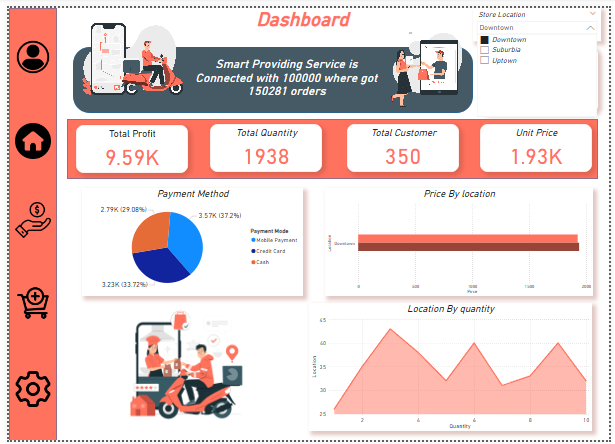

Layout of this report page (visuals, bound fields, positions):
{"tool":"powerbi","page":{"name":"Page 2","canvas":[1500,1080],"ordinal":1},"visuals":[{"type":"textbox","title":"Dashboard","box":[455,0,557.5,70],"z":0},{"type":"shape","box":[0,0,120,1140],"z":1000},{"type":"image","box":[10,67.5,100,110],"z":2000},{"type":"shape","box":[160,97.5,1000,165],"z":3000},{"type":"textbox","title":"Smart Providing Service is Connected with 100000 where got 150281 orders","box":[440,122.5,507.5,115],"z":4000},{"type":"image","box":[10,277.5,100,110],"z":5000},{"type":"image","box":[10,682.5,100,110],"z":6000},{"type":"image","box":[130,7.5,337.5,235],"z":7000},{"type":"shape","box":[865,200,140,40],"z":8000},{"type":"image","box":[10,897.5,100,110],"z":9000},{"type":"image","box":[10,475,100,110],"z":10000},{"type":"slicer","title":"Store Location","fields":{"Values":["data.store_location"]},"box":[1160,0,320,82.5],"z":11000},{"type":"clusteredBarChart","title":"Price By location","fields":{"Category":["data.store_location"],"Y":["Sum(data.unit_price)","Sum(data.quantity)"]},"box":[790,450,670,270],"z":12000},{"type":"pieChart","title":"Payment Method","fields":{"Category":["data.payment_method"],"Y":["Sum(data.total_price)"]},"box":[182.5,450,552.5,270],"z":13000},{"type":"shape","box":[145,277.5,1327.5,150],"z":14000},{"type":"stackedAreaChart","title":"Location By quantity ","fields":{"Category":["data.quantity"],"Y":["CountNonNull(data.store_location)"]},"box":[750,737.5,707.5,320],"z":15000},{"type":"image","box":[935,52.5,217.5,210],"z":16000},{"type":"gauge","title":"Price by Average","fields":{"Y":["Sum(data.total_price)"],"MinValue":["Avg(data.unit_price)"]},"box":[1177.5,97.5,295,165],"z":17000},{"type":"image","box":[182.5,737.5,515,317.5],"z":18000},{"type":"card","title":"Total Profit","fields":{"Values":["Sum(data.total_price)"]},"box":[167.5,292,280,120],"z":18500,"group":"g1"},{"type":"card","title":"Total Quantity","fields":{"Values":["Sum(data.quantity)"]},"box":[502.5,290,280,120],"z":19000,"group":"g1"},{"type":"group","id":"g1","title":"Group 1","box":[167.5,290,1290,122],"z":19000},{"type":"card","title":"Total Customer","fields":{"Values":["Count(data.transaction_id)"]},"box":[845,290,280,120],"z":19500,"group":"g1"},{"type":"card","title":"Unit Price","fields":{"Values":["Sum(data.unit_price)"]},"box":[1177.5,290,280,120],"z":20000,"group":"g1"}]}

Visuals, with their boxes in screenshot pixels (x1, y1, x2, y2), scaled from the page's 1500x1080 canvas onto the 615x444 screenshot:
"Dashboard" textbox: left=187, top=0, right=415, bottom=29
shape: left=0, top=0, right=49, bottom=443
image: left=4, top=28, right=45, bottom=73
shape: left=66, top=40, right=476, bottom=108
"Smart Providing Service is Connected with 100000 where got 150281 orders" textbox: left=180, top=50, right=388, bottom=98
image: left=4, top=114, right=45, bottom=159
image: left=4, top=281, right=45, bottom=326
image: left=53, top=3, right=192, bottom=100
shape: left=355, top=82, right=412, bottom=99
image: left=4, top=369, right=45, bottom=414
image: left=4, top=195, right=45, bottom=240
"Store Location" slicer: left=476, top=0, right=607, bottom=34
"Price By location" clusteredBarChart: left=324, top=185, right=599, bottom=296
"Payment Method" pieChart: left=75, top=185, right=301, bottom=296
shape: left=59, top=114, right=604, bottom=176
"Location By quantity " stackedAreaChart: left=308, top=303, right=598, bottom=435
image: left=383, top=22, right=473, bottom=108
"Price by Average" gauge: left=483, top=40, right=604, bottom=108
image: left=75, top=303, right=286, bottom=434
"Total Profit" card: left=69, top=120, right=183, bottom=169
"Total Quantity" card: left=206, top=119, right=321, bottom=169
"Group 1" group: left=69, top=119, right=598, bottom=169
"Total Customer" card: left=346, top=119, right=461, bottom=169
"Unit Price" card: left=483, top=119, right=598, bottom=169
